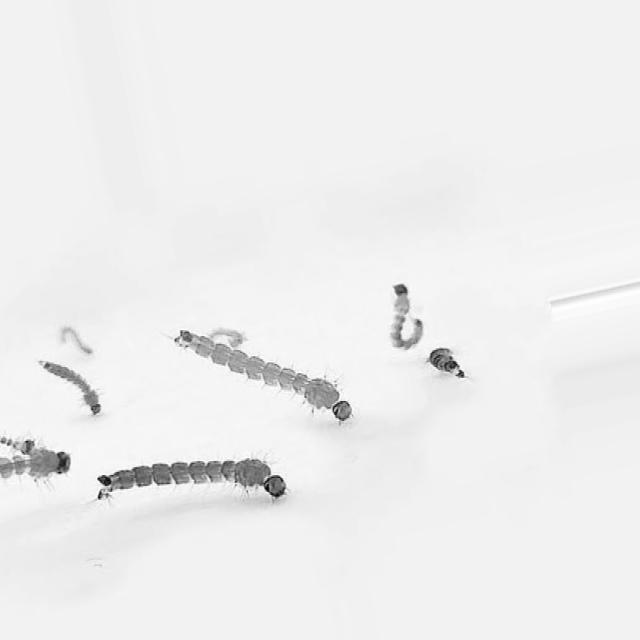larvas: (171, 320, 356, 434), (99, 459, 286, 502), (44, 363, 100, 415), (389, 282, 422, 350), (6, 451, 69, 482), (62, 329, 94, 358), (430, 348, 460, 377), (1, 434, 34, 454), (212, 327, 241, 346)
